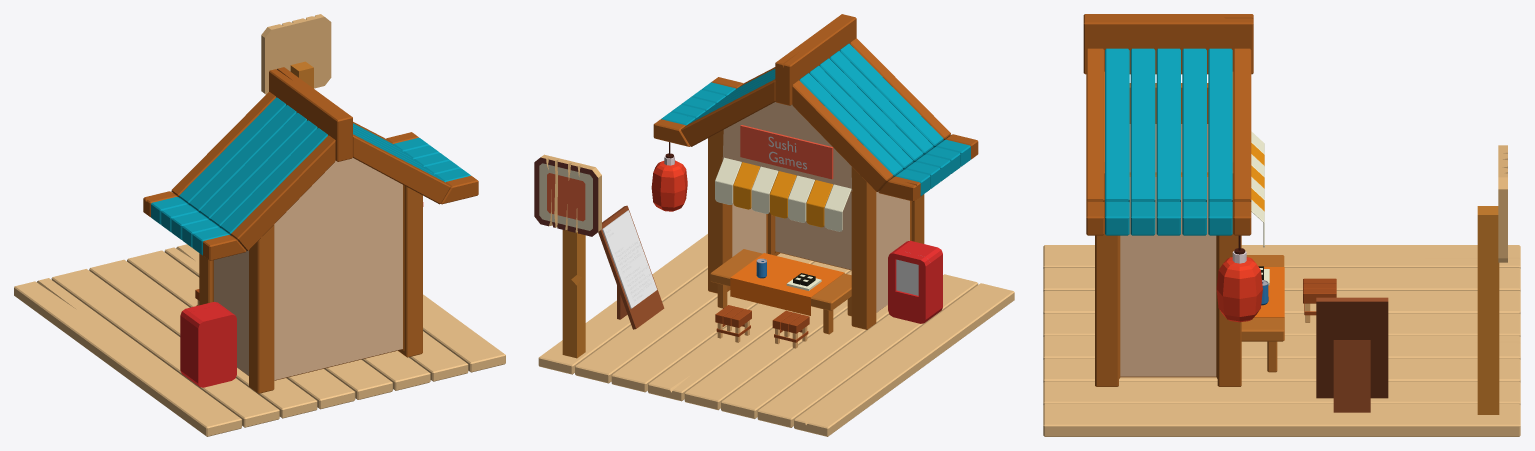
3 views of the same model, side by side, from view 1: azimuth 30°, elevation 25°; view 2: azimuth 150°, elevation 25°; view 3: azimuth 270°, elevation 25° (orthographic). The views are drawn at different scales.
Parts seen in each view (by area): view 1: Cube.004, Cube.002, Cube.003, Cube.009, Cube.005, Cube; view 2: Cube.002, Cube.003, Cube.004, Plane.001, Cube.005, Plane.005, Cube.009, Plane.004, Plane, Cube, Plane.003, Plane.002 (+3 smaller); view 3: Cube.002, Cube.003, Cube.004, Plane.005, Cube, Plane.003, Cube.010, Plane.002, Plane.001, Cube.005, Plane.004, Cube.007.
Boxes of the visible parts, bbox=[...] form: Cube.004: bbox=[199, 158, 422, 393]; Cube.002: bbox=[14, 244, 505, 436]; Cube.003: bbox=[143, 92, 478, 260]; Cube.009: bbox=[180, 302, 236, 387]; Cube.005: bbox=[261, 14, 331, 94]; Cube: bbox=[269, 67, 352, 161]; Cube.002: bbox=[538, 234, 1014, 436]; Cube.003: bbox=[653, 38, 978, 201]; Cube.004: bbox=[708, 102, 924, 329]; Plane.001: bbox=[715, 157, 851, 231]; Cube.005: bbox=[534, 154, 601, 236]; Plane.005: bbox=[598, 205, 664, 329]; Cube.009: bbox=[888, 240, 942, 323]; Plane.004: bbox=[730, 253, 844, 315]; Plane: bbox=[740, 125, 833, 179]; Cube: bbox=[775, 14, 856, 105]; Plane.003: bbox=[562, 229, 585, 358]; Plane.002: bbox=[710, 249, 851, 334]; Cube.002: bbox=[1043, 245, 1520, 436]; Cube.003: bbox=[1086, 48, 1251, 235]; Cube.004: bbox=[1095, 71, 1241, 386]; Plane.005: bbox=[1316, 297, 1388, 412]; Cube: bbox=[1083, 14, 1253, 74]; Plane.003: bbox=[1477, 206, 1499, 414]; Cube.010: bbox=[1216, 235, 1262, 322]; Plane.002: bbox=[1241, 255, 1284, 372]; Plane.001: bbox=[1251, 131, 1264, 247]; Cube.005: bbox=[1498, 145, 1507, 262]; Plane.004: bbox=[1254, 267, 1284, 340]; Cube.007: bbox=[1303, 278, 1336, 322].
Bounding box in the file's own units: 6.16 × 5.14 × 6.69.
